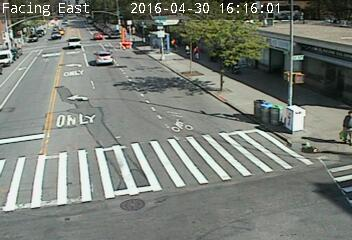neg: (219, 104, 240, 131), (35, 81, 51, 102), (126, 97, 140, 116), (92, 101, 106, 120), (89, 132, 103, 151), (131, 146, 145, 164), (66, 90, 79, 107), (172, 115, 184, 132), (68, 58, 80, 75), (185, 154, 197, 171), (99, 52, 111, 68)
pos: (337, 109, 351, 142), (187, 43, 202, 62), (183, 43, 193, 56), (170, 36, 179, 48)
